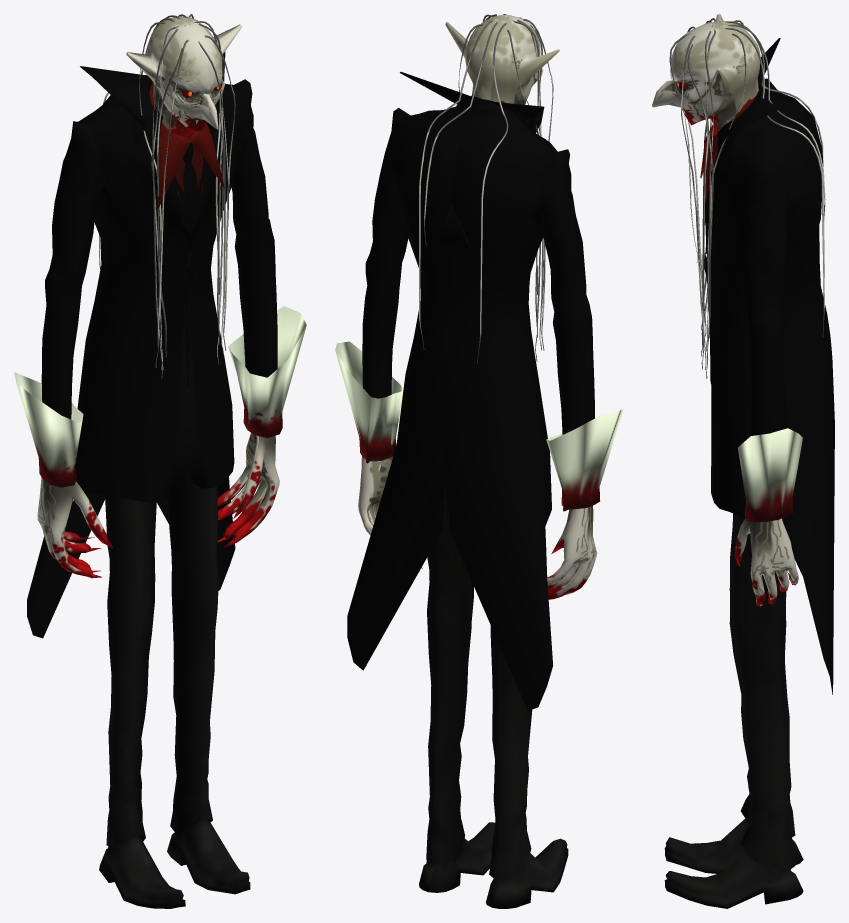
File: Vampire_Model.glb
3 views of the same model, side by side, from view 1: azimuth 30°, elevation 25°; view 2: azimuth 150°, elevation 25°; view 3: azimuth 270°, elevation 25° (orthographic).
Parts seen in each view (by area): view 1: Cloak.001, Feet, Cloak.002, Sleeves, Shoes.001, Hands, Head, Hair, Collar, SleeveCollar, ShirtCollar, Bow.002; view 2: Cloak.001, Cloak.002, Feet, SleeveCollar, Sleeves, Shoes.001, Head, Hands, Hair; view 3: Cloak.001, Cloak.002, Feet, Sleeves, Shoes.001, Head, SleeveCollar, Hair, Hands, Collar, ShirtCollar.
Part boxes in pixels (x1=…): Cloak.001: x1=27, y1=81, x2=244, y2=638; Feet: x1=105, y1=463, x2=218, y2=849; Cloak.002: x1=14, y1=15, x2=306, y2=908; Sleeves: x1=41, y1=79, x2=277, y2=419; Shoes.001: x1=99, y1=818, x2=250, y2=908; Hands: x1=37, y1=433, x2=279, y2=578; Head: x1=126, y1=16, x2=241, y2=134; Hair: x1=99, y1=14, x2=235, y2=378; Collar: x1=80, y1=51, x2=225, y2=147; SleeveCollar: x1=16, y1=319, x2=306, y2=487; ShirtCollar: x1=149, y1=83, x2=224, y2=209; Bow.002: x1=182, y1=142, x2=199, y2=248; Cloak.001: x1=347, y1=96, x2=557, y2=710; Cloak.002: x1=335, y1=14, x2=623, y2=908; Feet: x1=427, y1=522, x2=532, y2=879; SleeveCollar: x1=335, y1=342, x2=620, y2=511; Sleeves: x1=363, y1=108, x2=594, y2=425; Shoes.001: x1=419, y1=822, x2=568, y2=908; Head: x1=445, y1=15, x2=559, y2=103; Hands: x1=358, y1=456, x2=597, y2=596; Hair: x1=419, y1=14, x2=553, y2=361; Cloak.001: x1=704, y1=88, x2=834, y2=694; Cloak.002: x1=653, y1=19, x2=825, y2=908; Feet: x1=729, y1=513, x2=795, y2=872; Sleeves: x1=743, y1=78, x2=788, y2=435; Shoes.001: x1=664, y1=819, x2=803, y2=908; Head: x1=652, y1=14, x2=760, y2=127; SleeveCollar: x1=738, y1=428, x2=802, y2=522; Hair: x1=669, y1=18, x2=825, y2=378; Hands: x1=734, y1=519, x2=798, y2=605; Collar: x1=717, y1=38, x2=780, y2=154; ShirtCollar: x1=703, y1=96, x2=755, y2=206.
Size of the model in its own units: 0.751 by 2.19 by 0.424.
11 materials, 6 textured.
